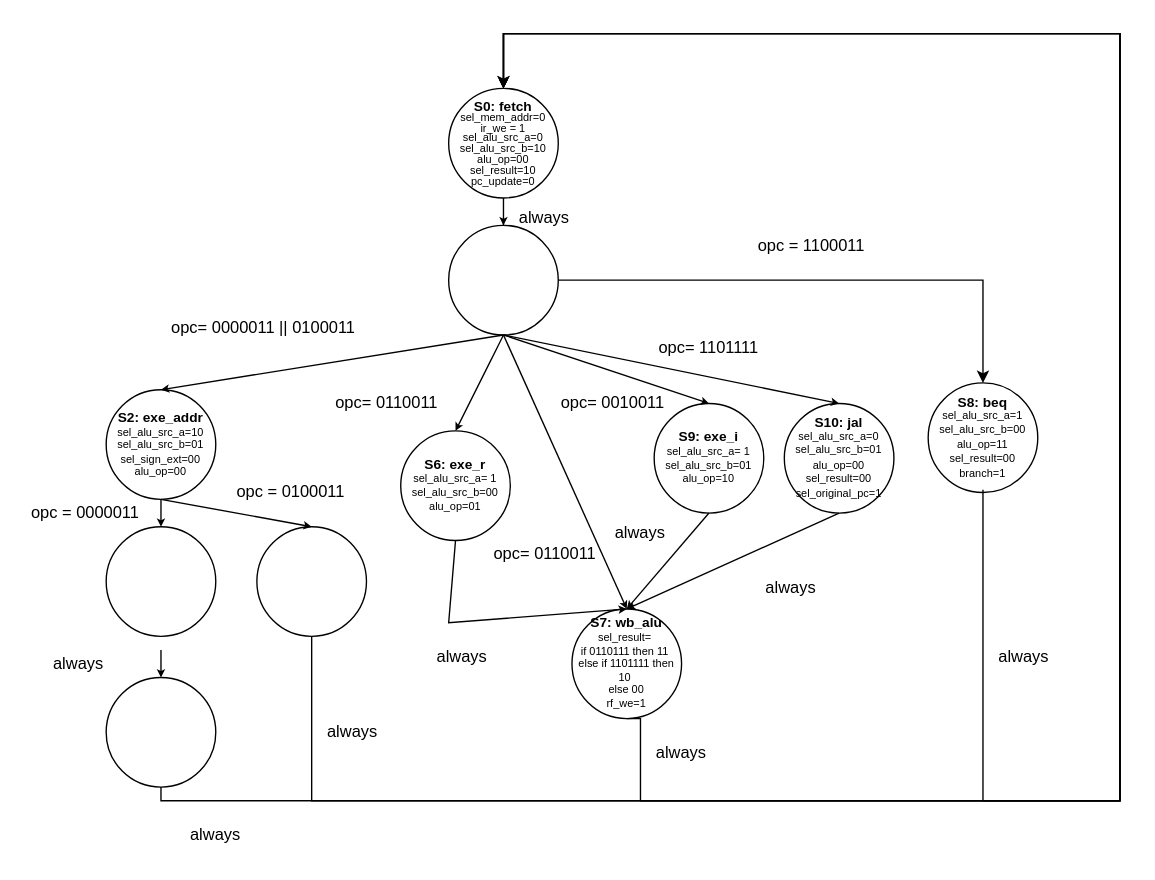
Image size: 1155x880. Some labels were removed from this diagram. The shapes that lost their labels are listed below. From the top down, each one's centre as x and y in pixels, then its label:
At point 502,279: "S1: decode".
At point 160,580: "S3: mem_rd sel_result=00 sel_mem_addr=1".
At point 311,580: "S5: mem_wr sel_result=00 sel_mem_addr=1 mem_we=1".
At point 160,731: "S4: wb_mem sel_result=01 rf_we=1".
